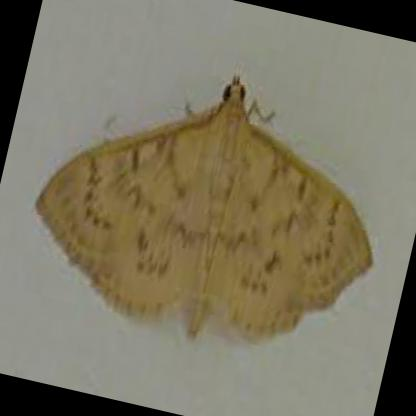Leaf Webber: (29, 74, 371, 355)
